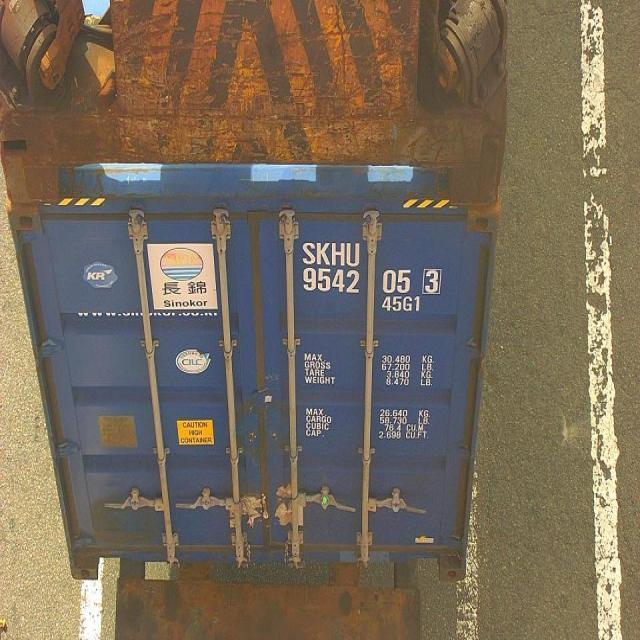ISO: (383, 294, 422, 313)
container_number: (304, 244, 446, 295)
